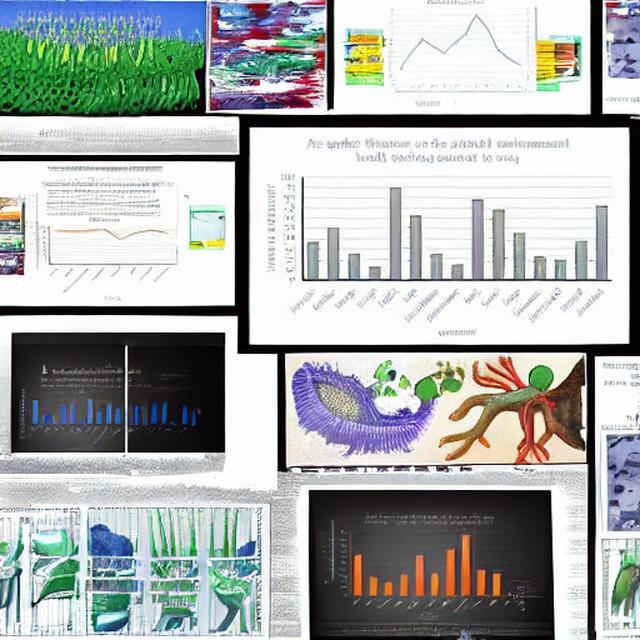Graph: (256, 133, 620, 342), (328, 512, 507, 622), (31, 209, 177, 301), (386, 0, 525, 90), (20, 376, 125, 453)
